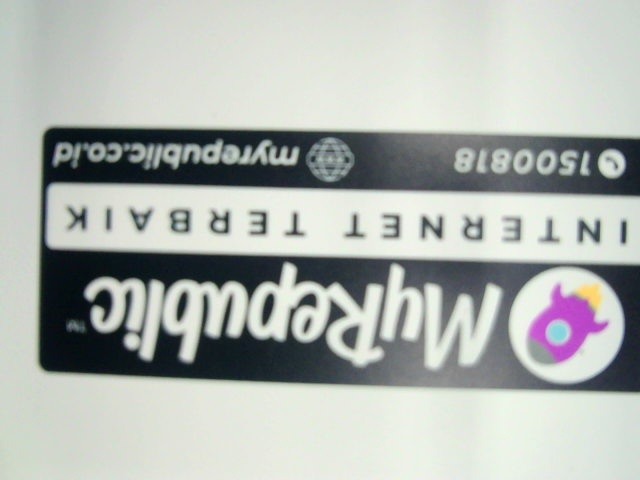BD_MyRepublic: (34, 118, 639, 390)
